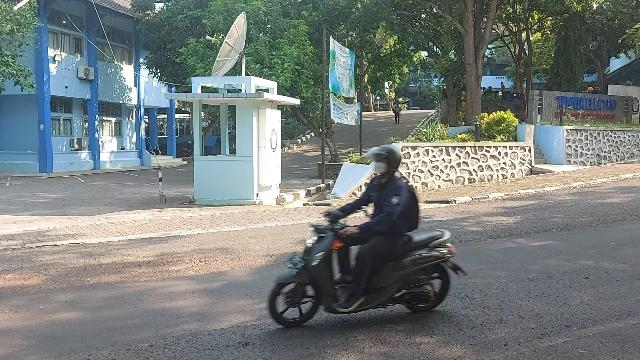motor: (269, 210, 470, 330), (362, 147, 403, 176)
